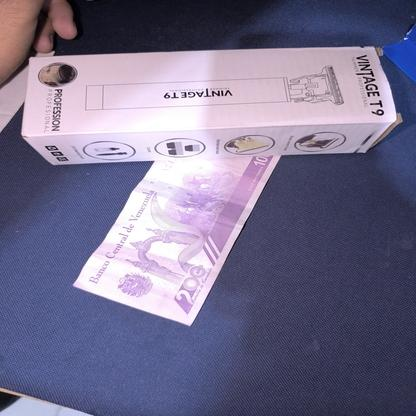vef_back: (72, 154, 282, 326)
